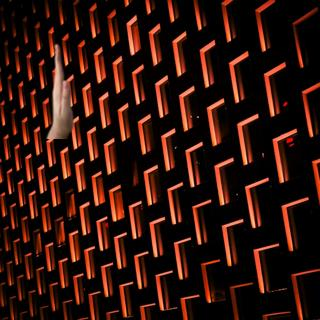Right: (40, 42, 79, 138)
